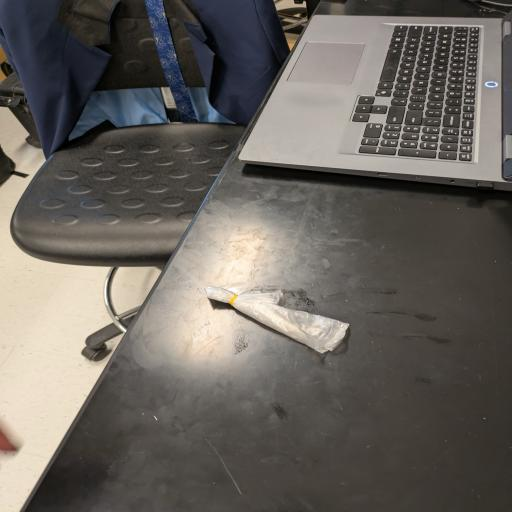rubberband: (198, 286, 354, 358)
